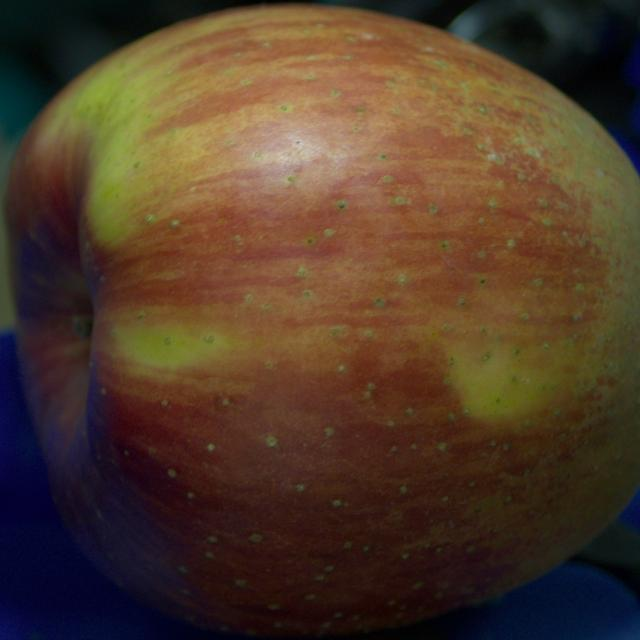apple: (4, 5, 639, 636)
